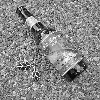beer: (15, 5, 84, 84)
